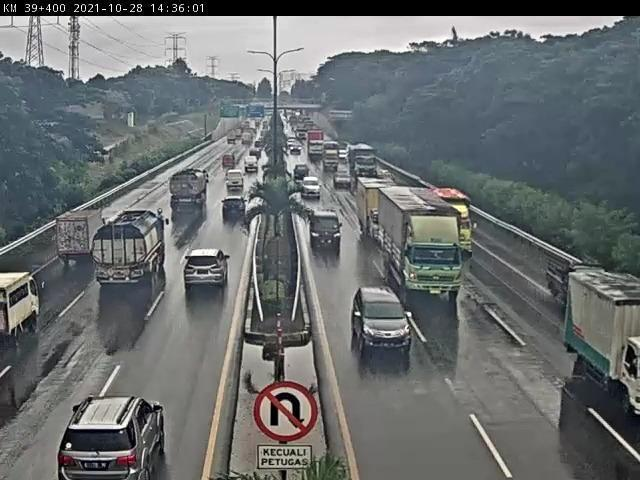car: (70, 403, 164, 472), (356, 288, 411, 362), (309, 211, 347, 265), (189, 249, 227, 294), (223, 171, 248, 196), (303, 176, 323, 204), (225, 196, 246, 219), (339, 169, 356, 189), (295, 161, 308, 181), (247, 157, 257, 174)
truck: (566, 263, 640, 409), (377, 192, 470, 295), (115, 215, 156, 283), (6, 270, 42, 337), (359, 175, 391, 235), (59, 211, 99, 253), (173, 171, 215, 208)
